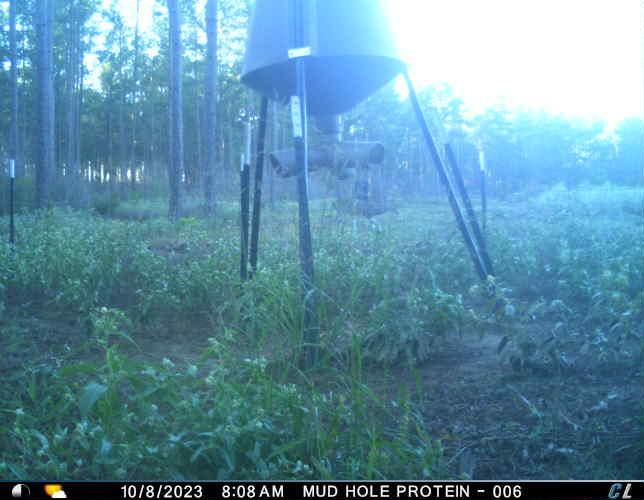Deer: (325, 194, 400, 235)
